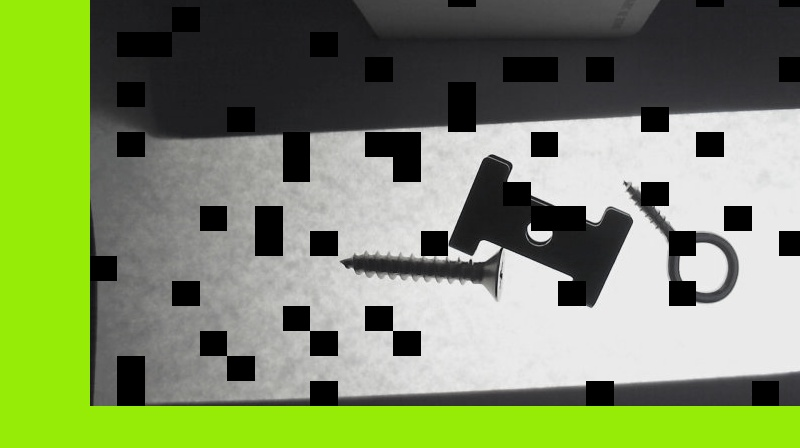O001: (618, 173, 741, 305)
O002: (447, 152, 631, 307)
S001: (338, 250, 506, 301)
